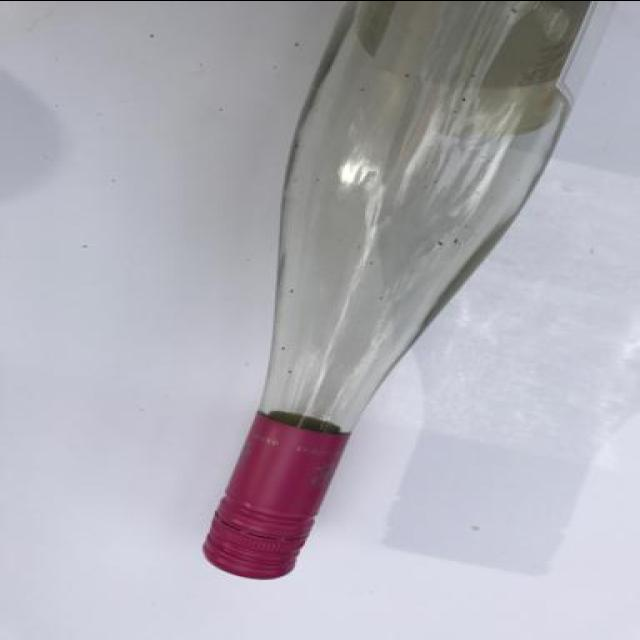glass: (204, 0, 622, 576)
